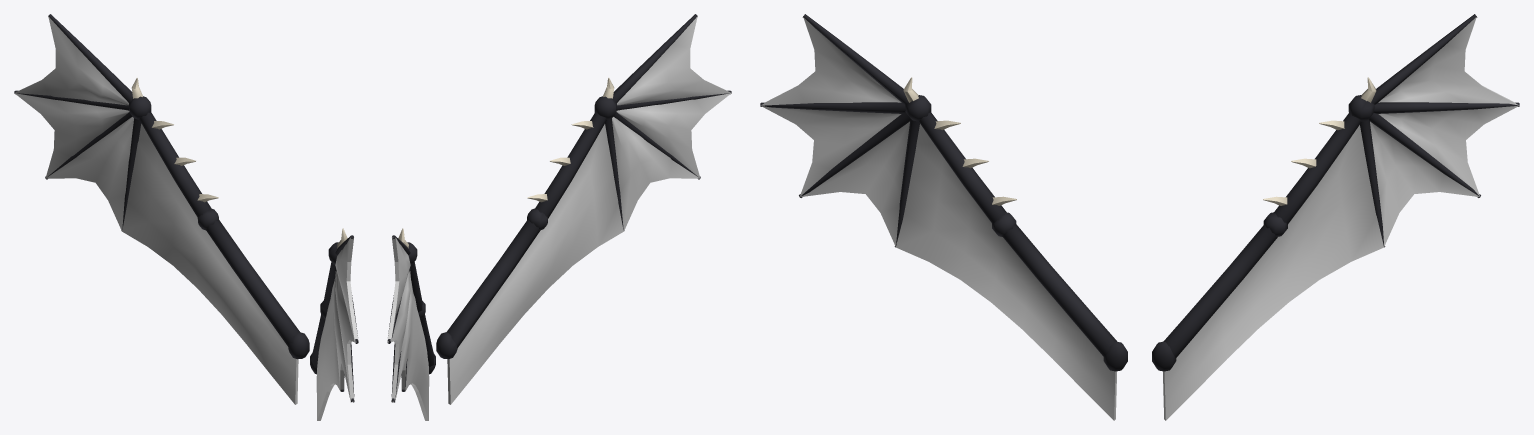
The model's file is acc_dragon_wings.glb.
3 renders of one model, left to right at view 1: azimuth 30°, elevation 25°; view 2: azimuth 150°, elevation 25°; view 3: azimuth 270°, elevation 25°, orthographic. The views are drawn at different scales.
Parts seen in each view (by area): view 1: acc_dragon_wings; view 2: acc_dragon_wings; view 3: acc_dragon_wings.
Part boxes in pixels (x1,y1,x2,y2): acc_dragon_wings: [14, 14, 358, 420]; acc_dragon_wings: [387, 14, 731, 420]; acc_dragon_wings: [760, 14, 1519, 420].
Bounding box in the file's own units: 0.483 × 1.07 × 2.12.
